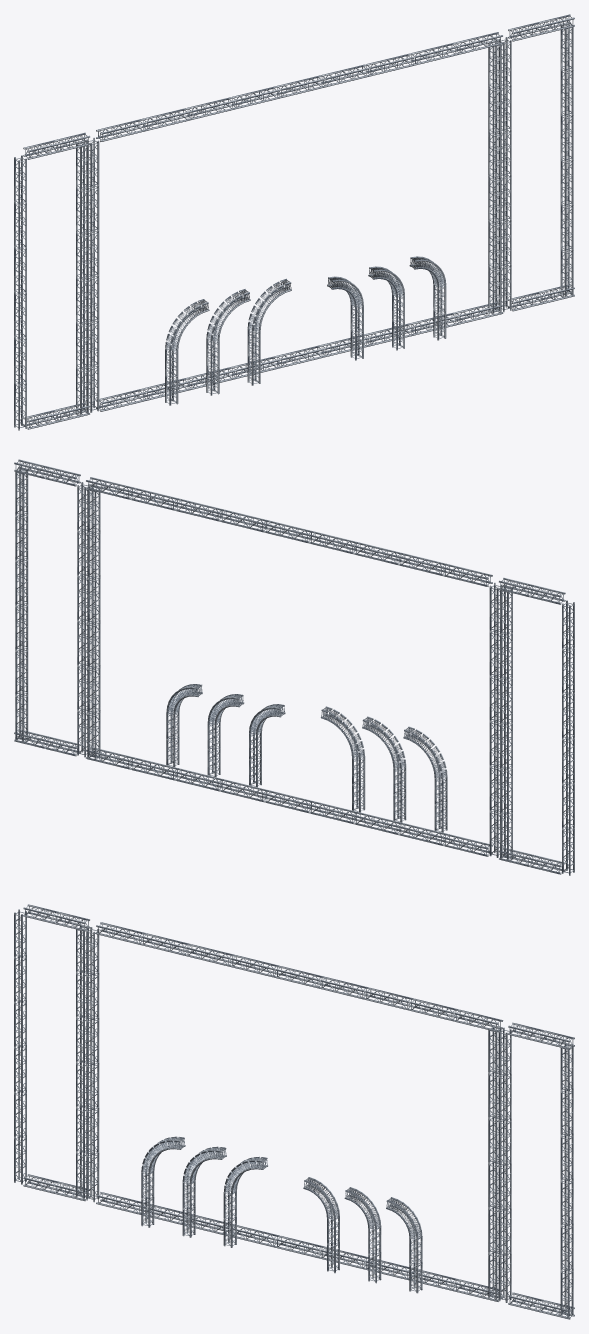
The model's file is raw-entry-stage.glb.
3 views of the same model, one above another, from view 1: azimuth 30°, elevation 25°; view 2: azimuth 150°, elevation 25°; view 3: azimuth 330°, elevation 25° (orthographic).
Visible parts, largest first — view 1: CenterFrame_Top, CenterFrame_Bot, CenterFrame_Right, RightWarFrame_Right, LeftWarFrame_Left, LeftWarFrame_Right, RightWarFrame_Left, CenterFrame_Left, RightWarFrame_Top, LeftWarFrame_Top, RightWarFrame_Bot, LeftWarFrame_Bot (+6 smaller); view 2: CenterFrame_Top, CenterFrame_Bot, CenterFrame_Right, RightWarFrame_Right, LeftWarFrame_Left, LeftWarFrame_Right, RightWarFrame_Left, CenterFrame_Left, RightWarFrame_Top, LeftWarFrame_Top, RightWarFrame_Bot, LeftWarFrame_Bot (+6 smaller); view 3: CenterFrame_Top, CenterFrame_Bot, RightWarFrame_Right, RightWarFrame_Left, CenterFrame_Left, CenterFrame_Right, LeftWarFrame_Left, LeftWarFrame_Right, RightWarFrame_Top, LeftWarFrame_Top, RightWarFrame_Bot, LeftWarFrame_Bot (+6 smaller).
Part boxes in pixels (x1,y1,x2,y2): CenterFrame_Top: [96, 32, 503, 141]; CenterFrame_Bot: [96, 302, 503, 411]; CenterFrame_Right: [488, 41, 501, 314]; RightWarFrame_Right: [560, 22, 573, 297]; LeftWarFrame_Left: [14, 155, 26, 430]; LeftWarFrame_Right: [76, 140, 88, 415]; RightWarFrame_Left: [498, 37, 511, 312]; CenterFrame_Left: [86, 137, 99, 412]; RightWarFrame_Top: [508, 14, 574, 41]; LeftWarFrame_Top: [23, 132, 90, 159]; RightWarFrame_Bot: [508, 285, 574, 311]; LeftWarFrame_Bot: [23, 403, 90, 429]; CenterFrame_Top: [85, 477, 492, 586]; CenterFrame_Bot: [85, 747, 492, 856]; CenterFrame_Right: [87, 486, 100, 759]; RightWarFrame_Right: [15, 467, 28, 742]; LeftWarFrame_Left: [562, 600, 574, 875]; LeftWarFrame_Right: [500, 585, 512, 860]; RightWarFrame_Left: [77, 482, 90, 757]; CenterFrame_Left: [489, 582, 502, 857]; RightWarFrame_Top: [14, 459, 80, 486]; LeftWarFrame_Top: [498, 577, 565, 604]; RightWarFrame_Bot: [14, 730, 80, 756]; LeftWarFrame_Bot: [498, 848, 565, 874]; CenterFrame_Top: [96, 922, 503, 1032]; CenterFrame_Bot: [96, 1192, 502, 1301]; RightWarFrame_Right: [560, 1043, 573, 1317]; RightWarFrame_Left: [498, 1027, 511, 1302]; CenterFrame_Left: [86, 927, 99, 1202]; CenterFrame_Right: [488, 1025, 501, 1300]; LeftWarFrame_Left: [14, 909, 26, 1184]; LeftWarFrame_Right: [76, 925, 88, 1199]; RightWarFrame_Top: [508, 1022, 574, 1049]; LeftWarFrame_Top: [23, 904, 90, 931]; RightWarFrame_Bot: [508, 1292, 574, 1319]; LeftWarFrame_Bot: [23, 1174, 90, 1201].
Bounding box in the file's own units: 53.92 × 25.82 × 2.86.
Materials: 1 (1 with a texture image).
